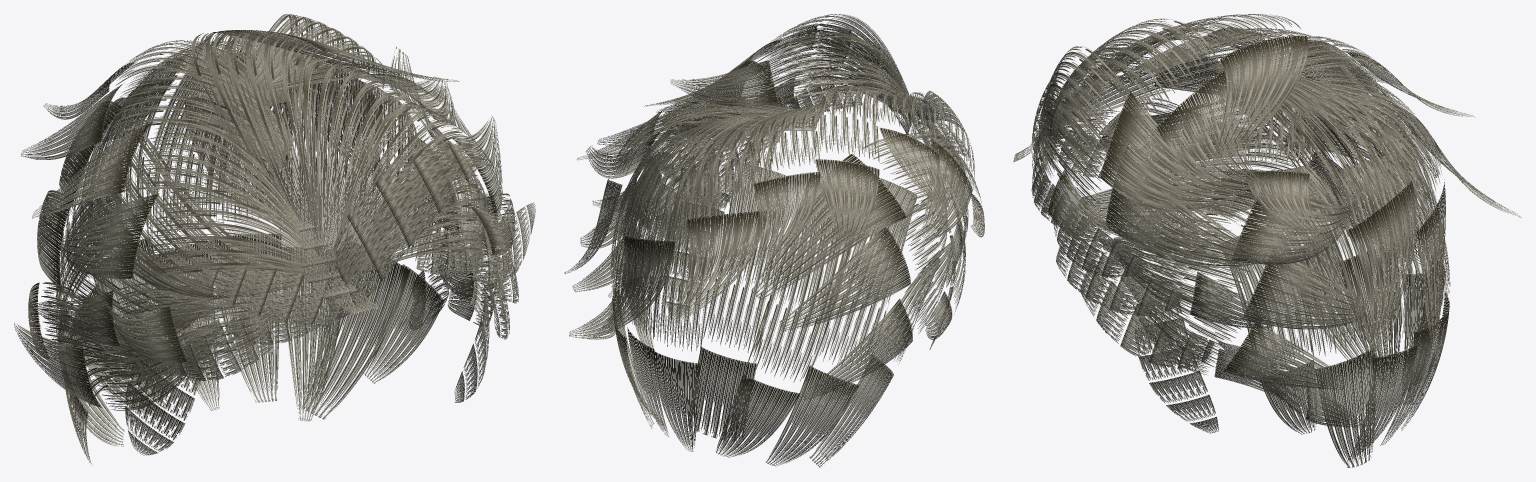
File: hair_cards2.fbx
3 renders of one model, left to right at view 1: azimuth 30°, elevation 25°; view 2: azimuth 150°, elevation 25°; view 3: azimuth 270°, elevation 25°, orthographic. The views are drawn at different scales.
Visible parts, largest first — view 1: NurbsPath.049; view 2: NurbsPath.049; view 3: NurbsPath.049.
Boxes of the visible parts, <box> form: NurbsPath.049: <box>14,14,535,463</box>; NurbsPath.049: <box>564,14,984,467</box>; NurbsPath.049: <box>1013,14,1521,467</box>.
Bounding box in the file's own units: 24.55 × 23.16 × 27.16.
